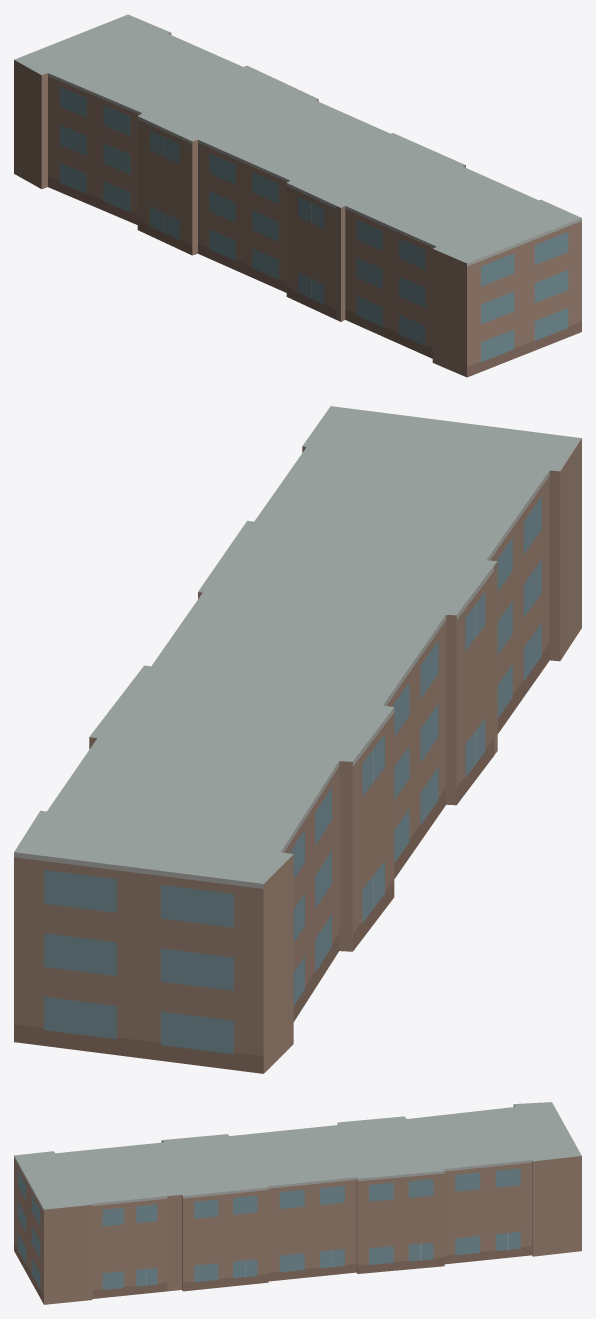
The model's file is survey-upis-32606049.glb.
3 views of the same model, one above another, from view 1: azimuth 30°, elevation 25°; view 2: azimuth 150°, elevation 25°; view 3: azimuth 270°, elevation 25° (orthographic). The views are drawn at different scales.
Visible parts, largest first — view 1: survey-upis-32606049.tmp; view 2: survey-upis-32606049.tmp; view 3: survey-upis-32606049.tmp.
Boxes of the visible parts, x1=… form: survey-upis-32606049.tmp: x1=14, y1=14, x2=581, y2=377; survey-upis-32606049.tmp: x1=14, y1=406, x2=581, y2=1073; survey-upis-32606049.tmp: x1=14, y1=1102, x2=581, y2=1304.
Size of the model in its own units: 22.16 by 9.15 by 49.46.
